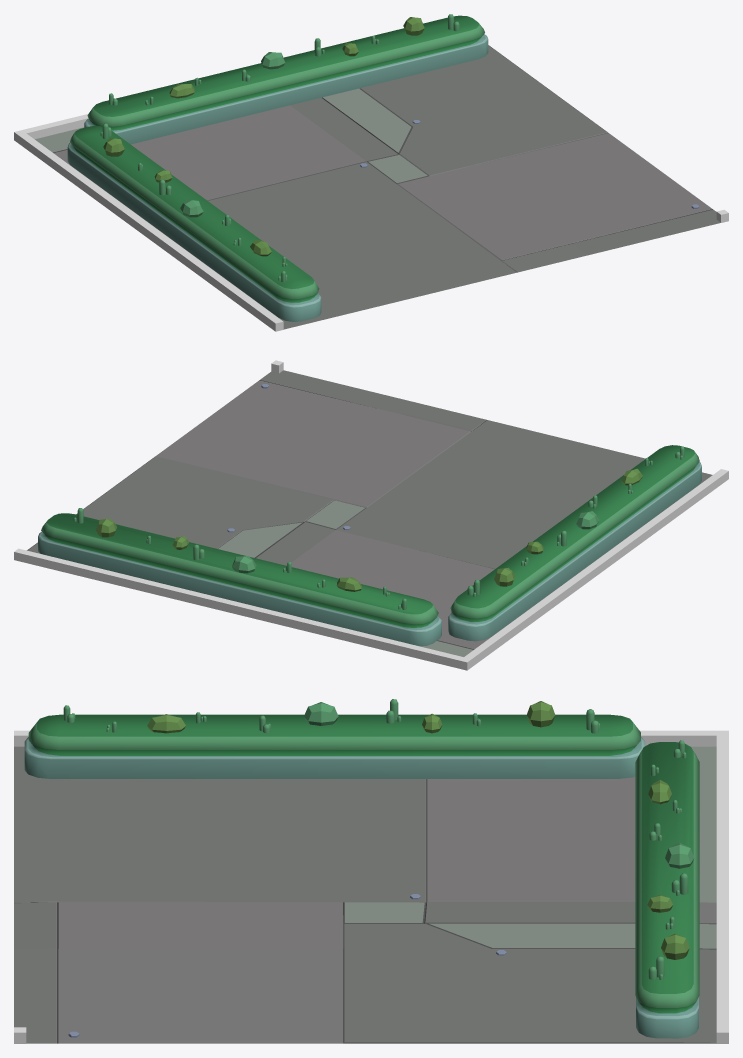
Rendered from Roads.glb.
3 renders of one model, top to bottom at view 1: azimuth 30°, elevation 25°; view 2: azimuth 150°, elevation 25°; view 3: azimuth 270°, elevation 25°, orthographic. The views are drawn at different scales.
Parts seen in each view (by area): view 1: Scifi_Panel_04_Plaza014_group4.011_Scifi_Panel_04_Plaza014_., Cube.1208; view 2: Scifi_Panel_04_Plaza014_group4.011_Scifi_Panel_04_Plaza014_., Cube.1208; view 3: Scifi_Panel_04_Plaza014_group4.011_Scifi_Panel_04_Plaza014_., Cube.1208.
Boxes of the visible parts, box(x1,y1,x2,y2) form: Scifi_Panel_04_Plaza014_group4.011_Scifi_Panel_04_Plaza014_.: box(35, 14, 720, 329); Cube.1208: box(14, 114, 283, 331); Scifi_Panel_04_Plaza014_group4.011_Scifi_Panel_04_Plaza014_.: box(27, 370, 712, 656); Cube.1208: box(14, 469, 728, 670); Scifi_Panel_04_Plaza014_group4.011_Scifi_Panel_04_Plaza014_.: box(14, 699, 716, 1043); Cube.1208: box(14, 730, 728, 1043).
Size of what is drawn, in the model's own units: 10 by 0.9439 by 10.
Materials: 1 (1 with a texture image).
